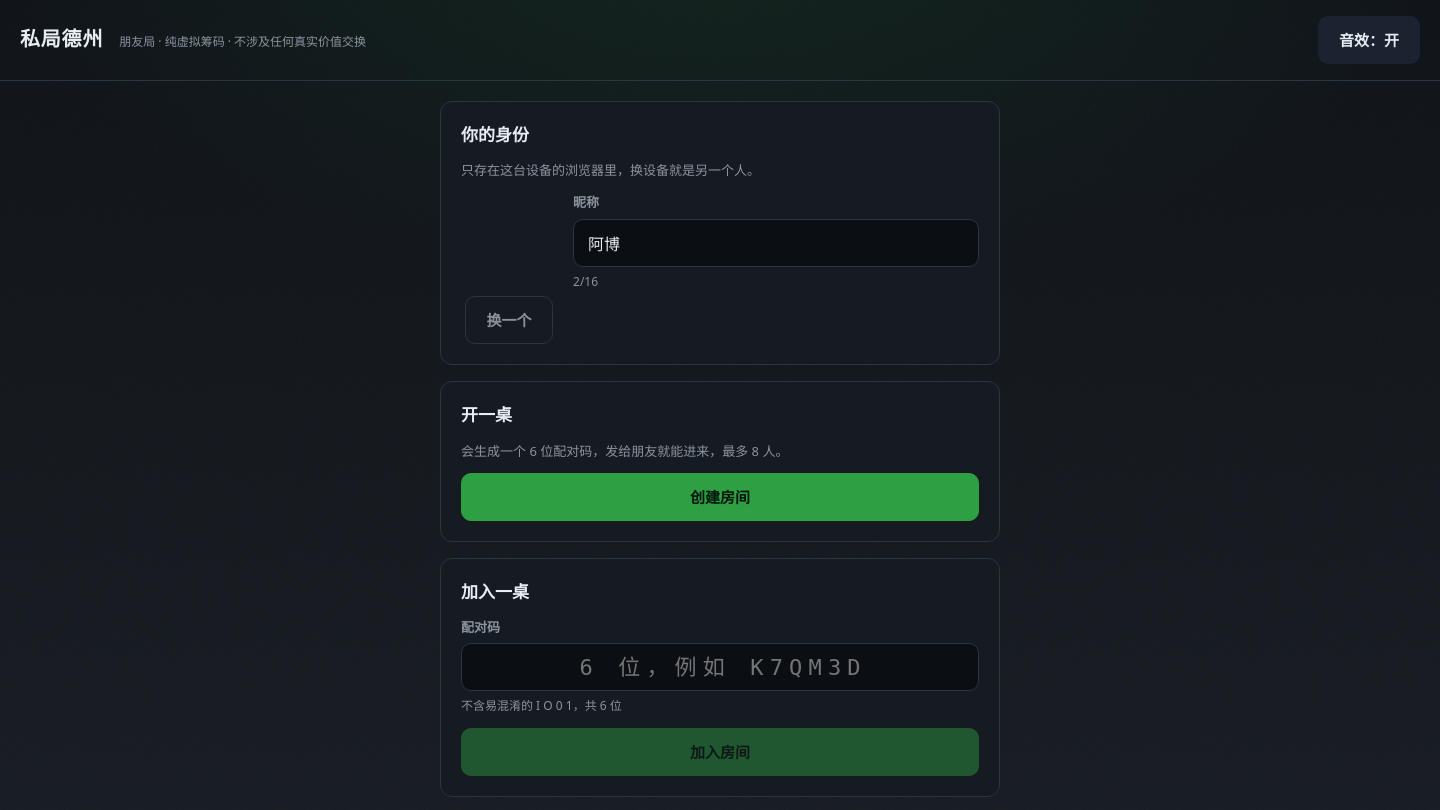
it: 大厅 · 创建房间 › 成功后跳到等待室，配对码就是 roomId（D-009）
The width and height of the screenshot is (1440, 810).
Click the button "创建房间" at (720, 497), box [461,473,979,521]
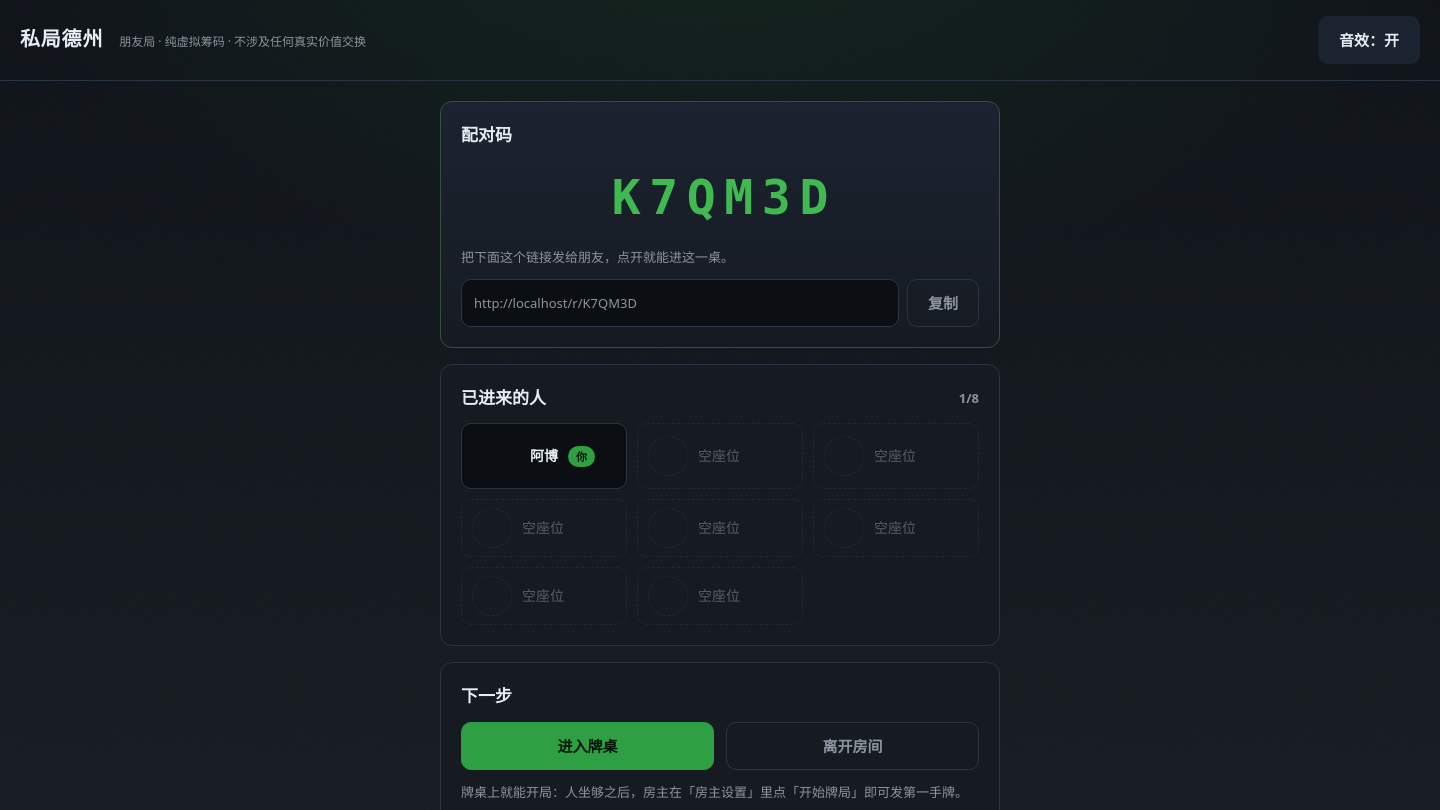
Check: the heading "配对码" is shown, box [461,123,512,146]
Check: the text "K7QM3D" is shown, box [612,169,837,225]
